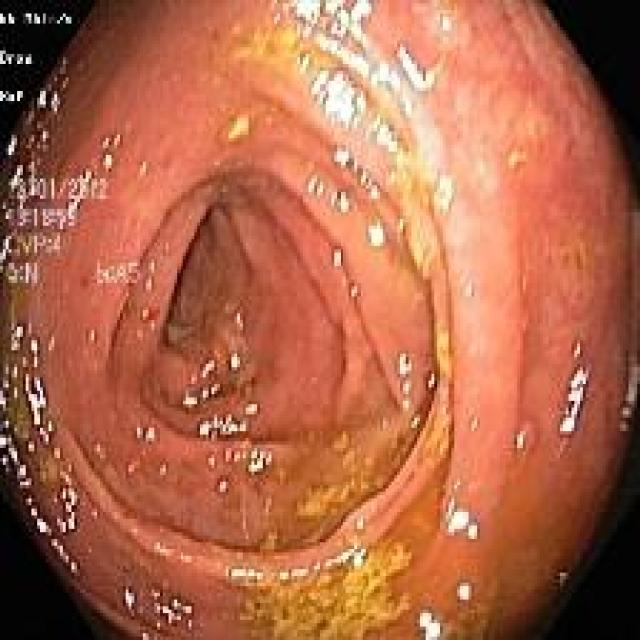ulcerative-colitis-grade-1: (366, 3, 639, 640)
